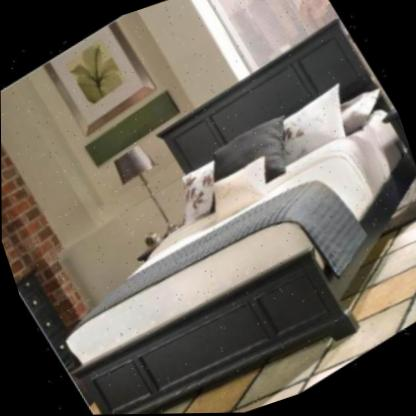Bed: (0, 5, 416, 416)
